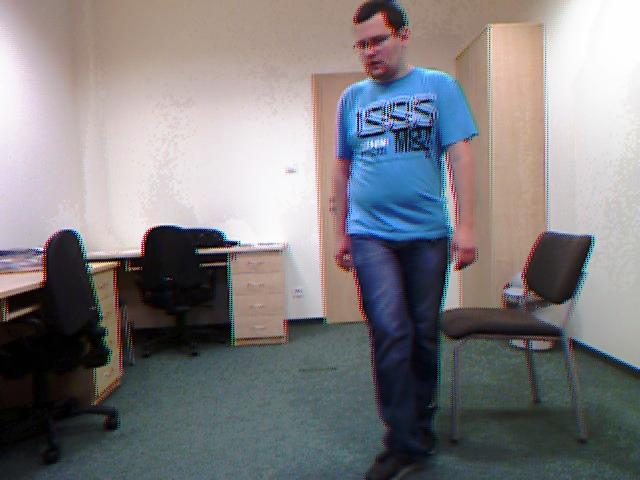walking: (322, 4, 494, 480)
